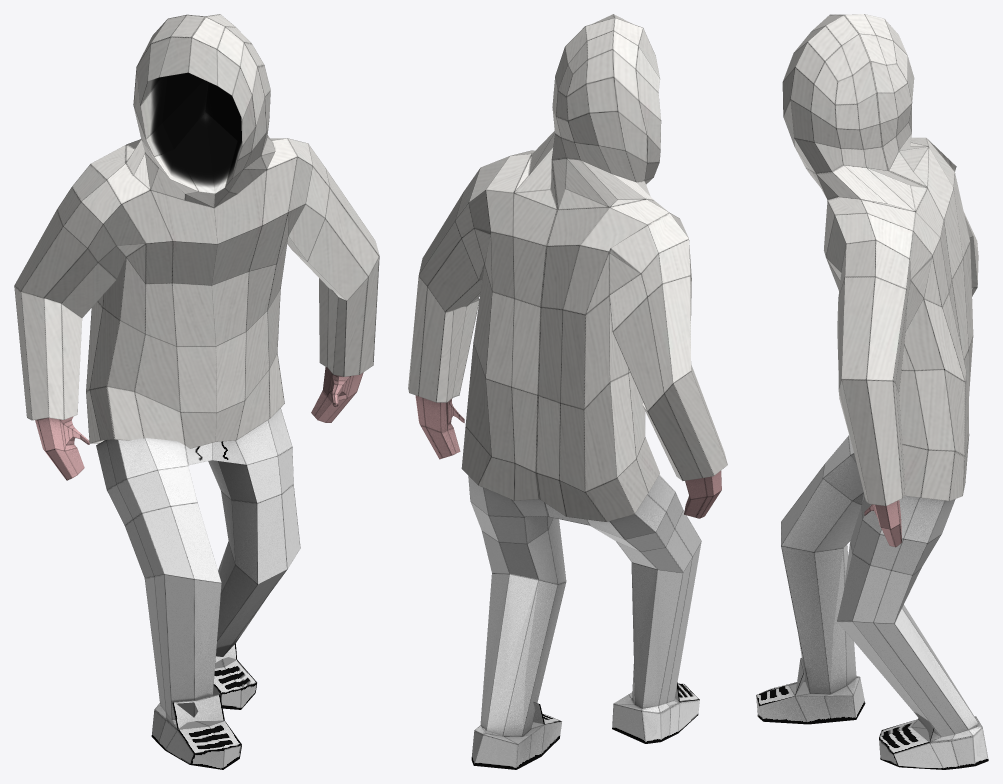
The model's file is Shadowmanv_000018.obj.
3 renders of one model, left to right at view 1: azimuth 30°, elevation 25°; view 2: azimuth 150°, elevation 25°; view 3: azimuth 270°, elevation 25°, orthographic.
Parts seen in each view (by area): view 1: Cube.000; view 2: Cube.000; view 3: Cube.000.
Part boxes in pixels (x1=…): Cube.000: x1=14, y1=14, x2=379, y2=769; Cube.000: x1=408, y1=14, x2=727, y2=769; Cube.000: x1=756, y1=14, x2=988, y2=769.
Bounding box in the file's own units: 5.41 × 11.3 × 3.31.
